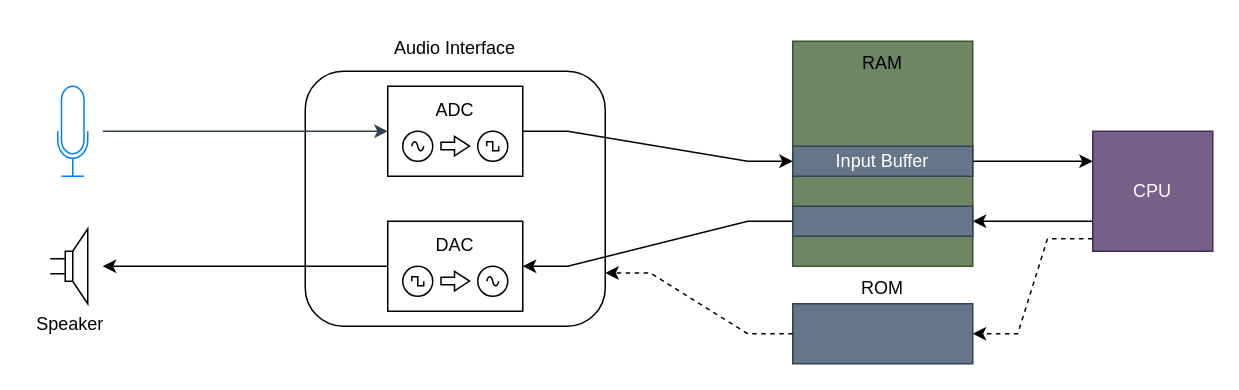
Some shapes in this 1239 by 390 pixel diagram are drawn without their labels. The shapes that lost their labels are listed below. From the top down, each one's centre as x and y in pixels, then its label:
At (72,130): "Microphone".
At (882,220): "Output Buffer".
At (882,333): "Audio Driver".
